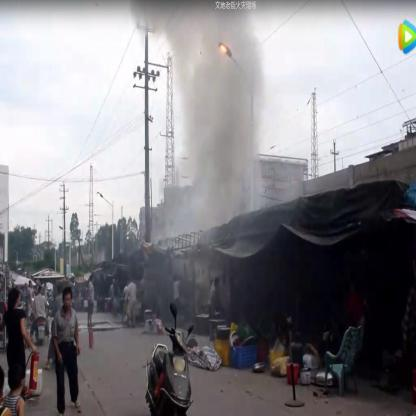smoke: (177, 53, 261, 148), (131, 0, 258, 51), (177, 154, 259, 226)
